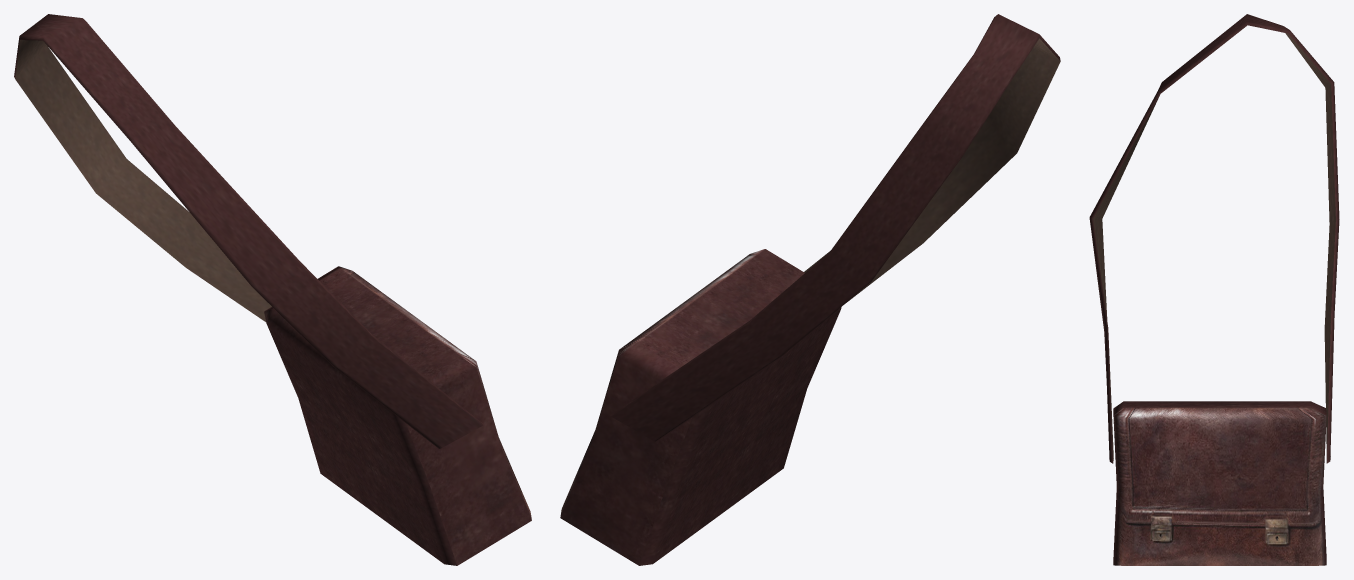
File: bag.fbx
3 renders of one model, left to right at view 1: azimuth 30°, elevation 25°; view 2: azimuth 150°, elevation 25°; view 3: azimuth 270°, elevation 25°, orthographic. The views are drawn at different scales.
Parts seen in each view (by area): view 1: slingMesh1; view 2: slingMesh1; view 3: slingMesh1.
Part boxes in pixels (left/top/right/bottom): slingMesh1: left=14, top=14, right=531, bottom=565; slingMesh1: left=560, top=14, right=1060, bottom=565; slingMesh1: left=1089, top=14, right=1339, bottom=565.
Bounding box in the file's own units: 35.43 × 46.12 × 24.3.
